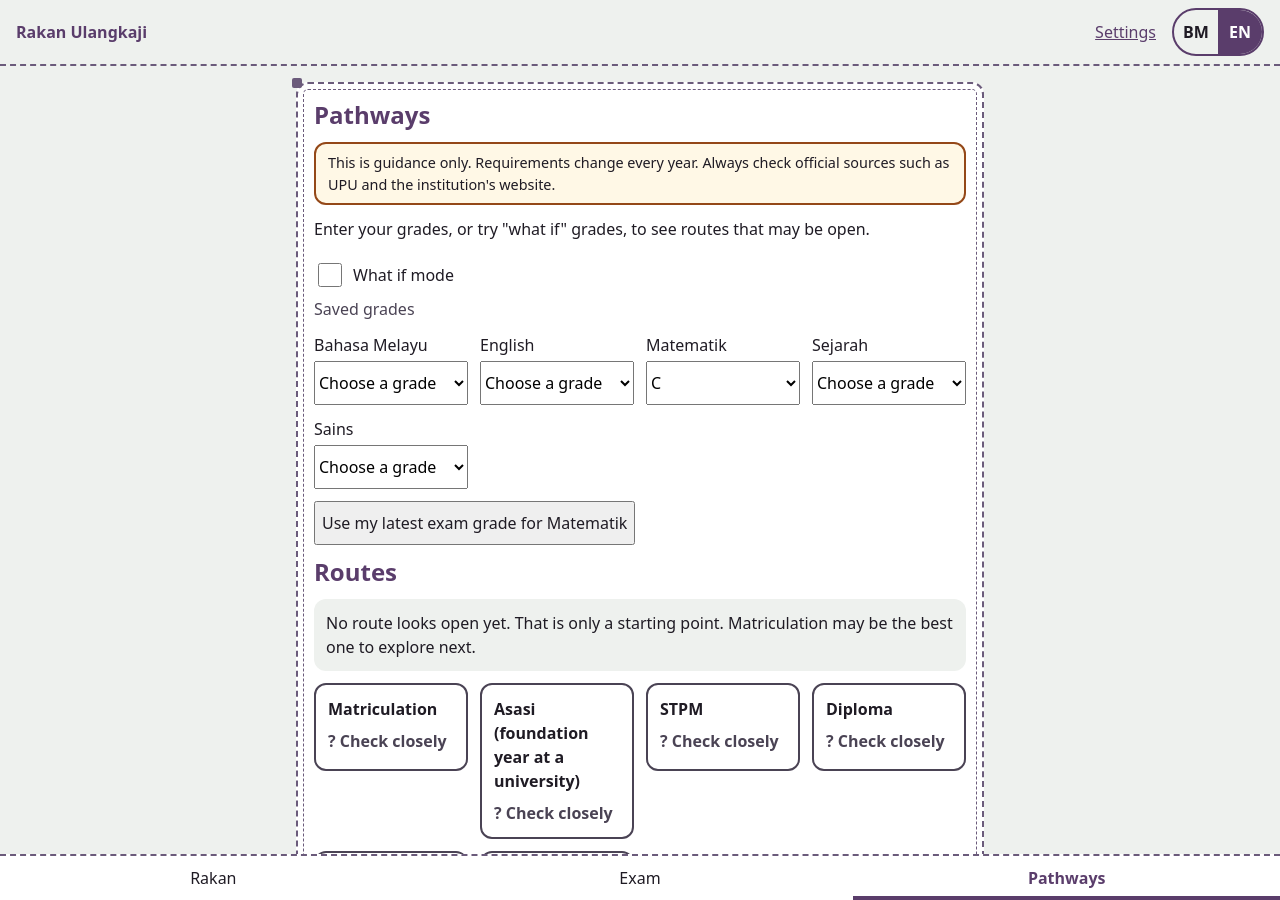
Scenario: Board screen › saves edits when what if is off, and leaves saved grades alone when it is on
The image size is (1280, 900).
Later steps or results of the test are not shown.
Expected: the heading "Pathways" is shown, [314,98,430,131]
Select "A" in the dropdown labelled "Bahasa Melayu" at (391, 383), box [314,361,468,405]
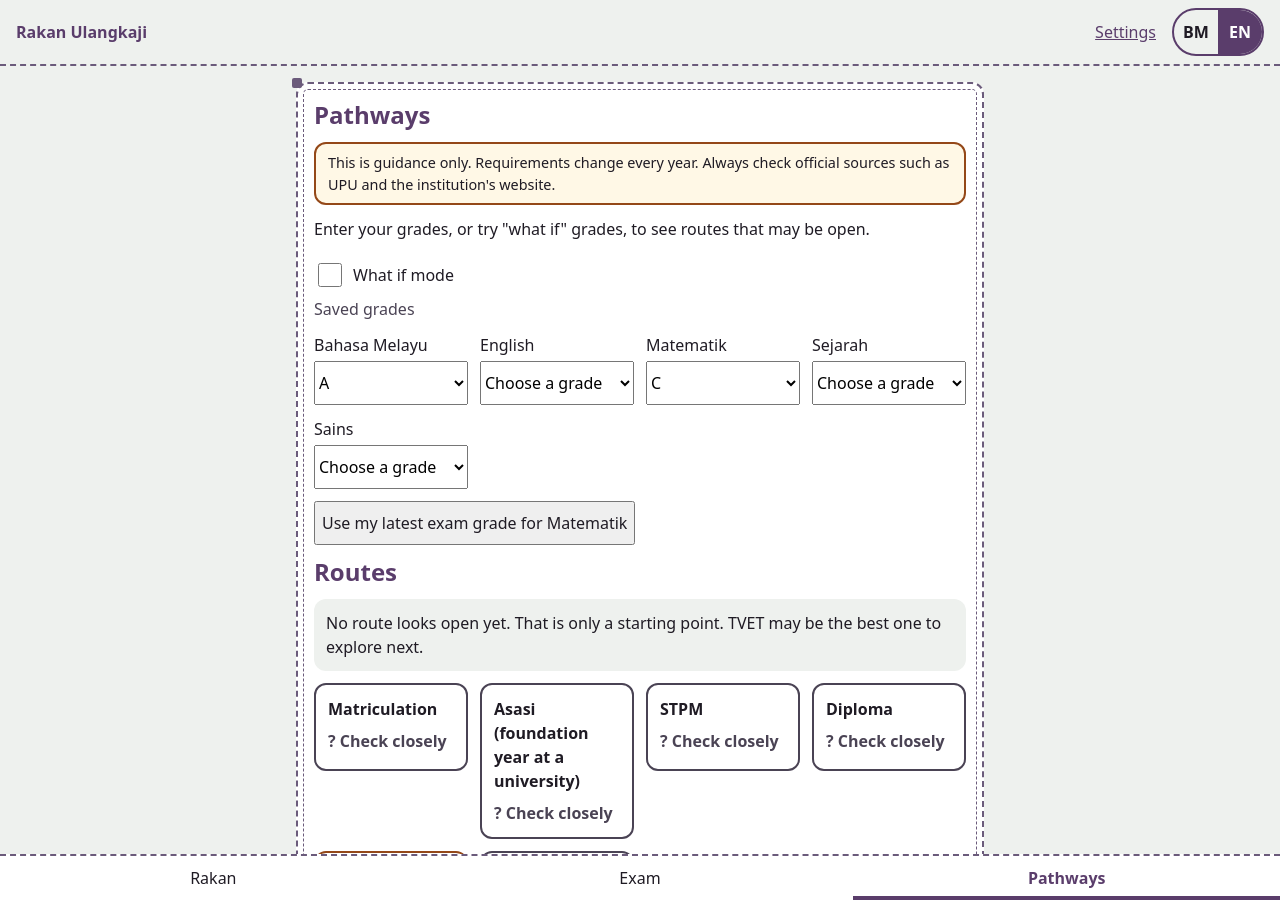
Click the checkbox labelled "What if mode" at (330, 275), box [318,263,342,287]
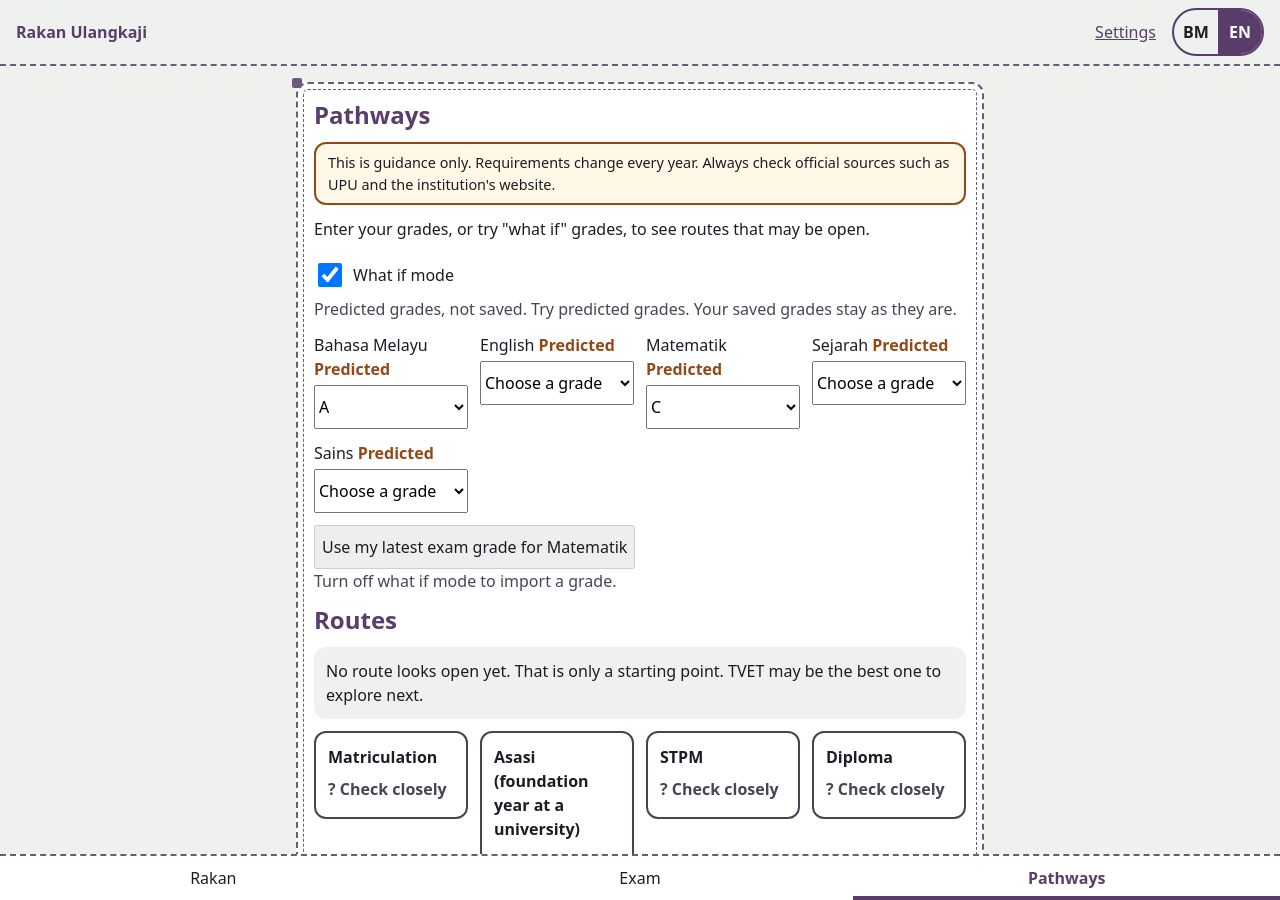
Expected: the text "Predicted" is shown, [314,298,957,320]
